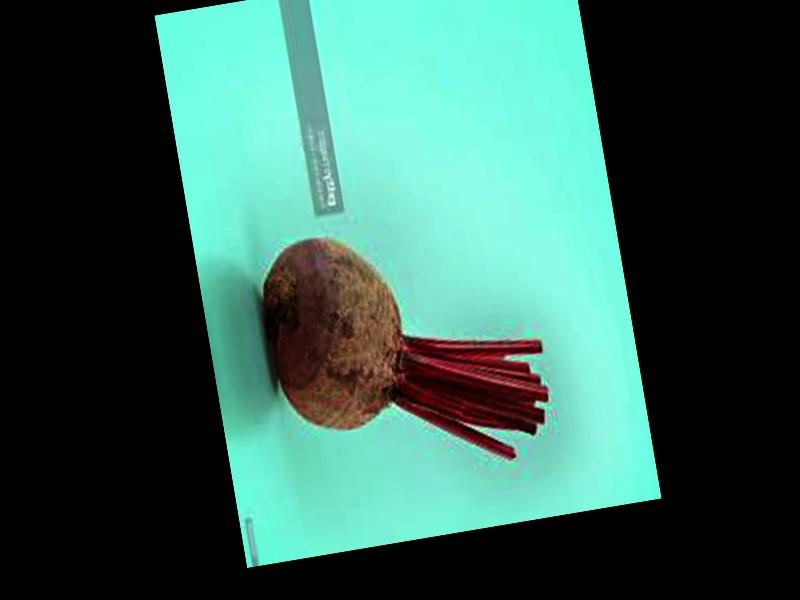Beet: (252, 203, 560, 494)
